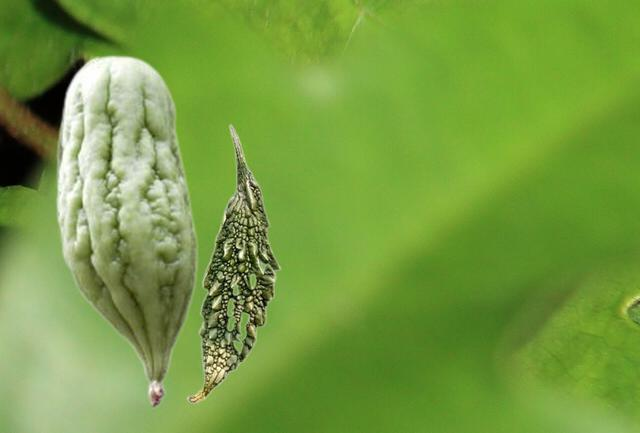ampalaya: (55, 54, 198, 407), (186, 123, 280, 402)
